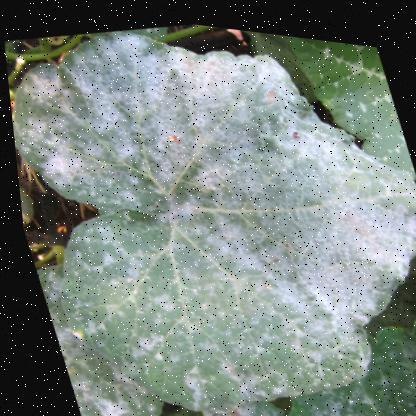PowderyMildew: (173, 153, 387, 410), (56, 196, 271, 415), (122, 33, 355, 234), (16, 40, 216, 225), (218, 128, 407, 278)
